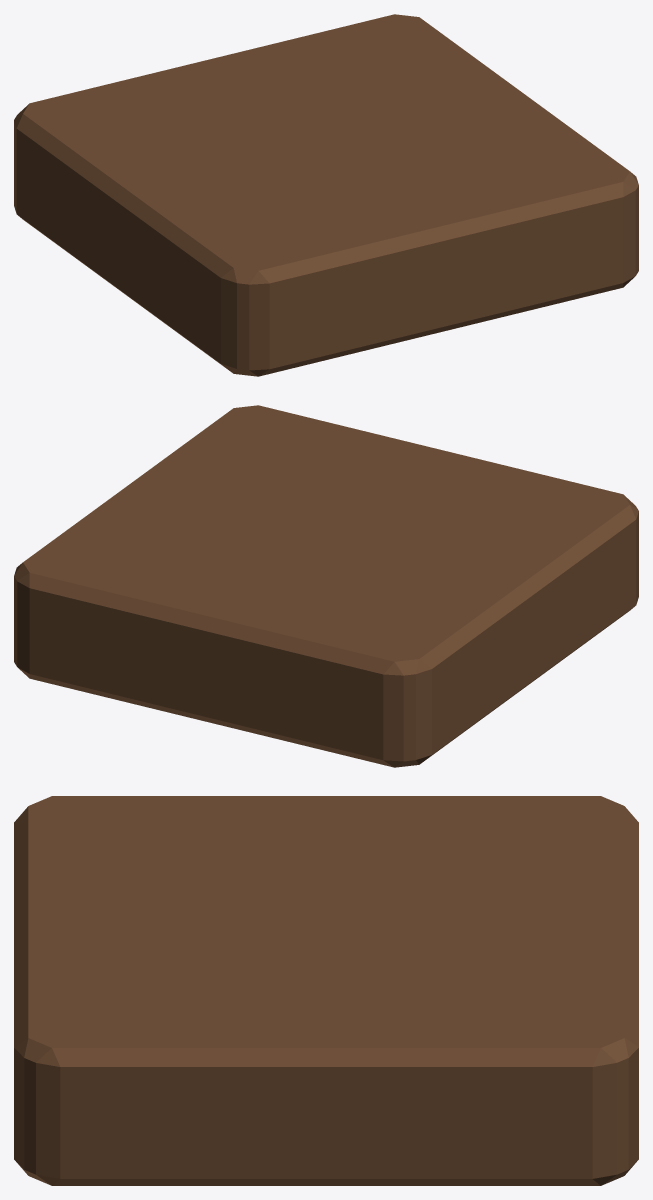
The model's file is crumbling_rock_block_intact.obj.
The picture shows the model from 3 angles, top to bottom: view 1: azimuth 30°, elevation 25°; view 2: azimuth 150°, elevation 25°; view 3: azimuth 270°, elevation 25°; orthographic projection. The views are drawn at different scales.
Visible parts, largest first — view 1: IntactRock; view 2: IntactRock; view 3: IntactRock.
Part boxes in pixels (box(x1,y1,x2,y2)): IntactRock: box(14, 14, 638, 376); IntactRock: box(14, 405, 638, 767); IntactRock: box(14, 796, 638, 1185).
Size of the model in its own units: 3.9 by 0.95 by 3.9.
